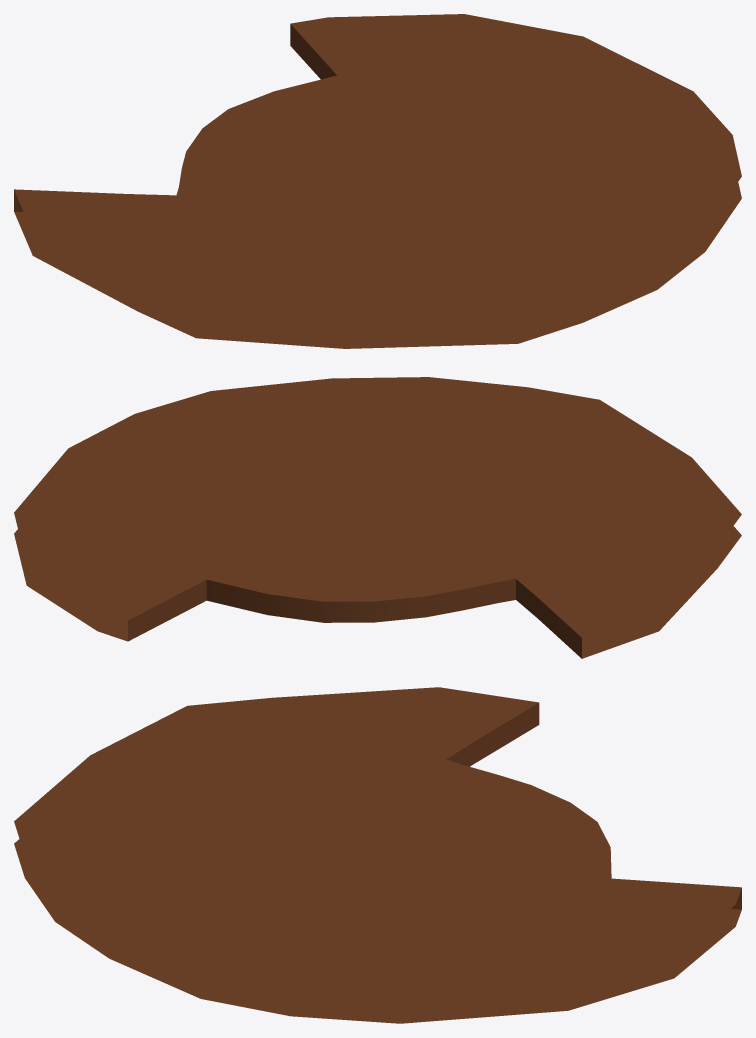
The model's file is environment_modelling.fbx.
The picture shows the model from 3 angles, top to bottom: view 1: azimuth 30°, elevation 25°; view 2: azimuth 150°, elevation 25°; view 3: azimuth 270°, elevation 25°; orthographic projection. The views are drawn at different scales.
Parts seen in each view (by area): view 1: sol_haut_tour_mur; view 2: sol_haut_tour_mur; view 3: sol_haut_tour_mur.
Boxes of the visible parts, x1,y1,x2,y2 form: sol_haut_tour_mur: (14,14,741,348); sol_haut_tour_mur: (14,377,741,658); sol_haut_tour_mur: (14,687,741,1023).
Bounding box in the file's own units: 908 × 30.25 × 888.
